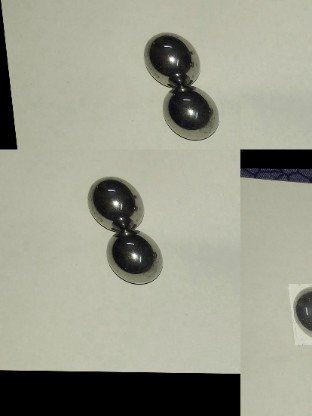ironball: (142, 29, 207, 88), (102, 228, 162, 290), (159, 85, 223, 143), (82, 175, 145, 229), (284, 283, 312, 345)
